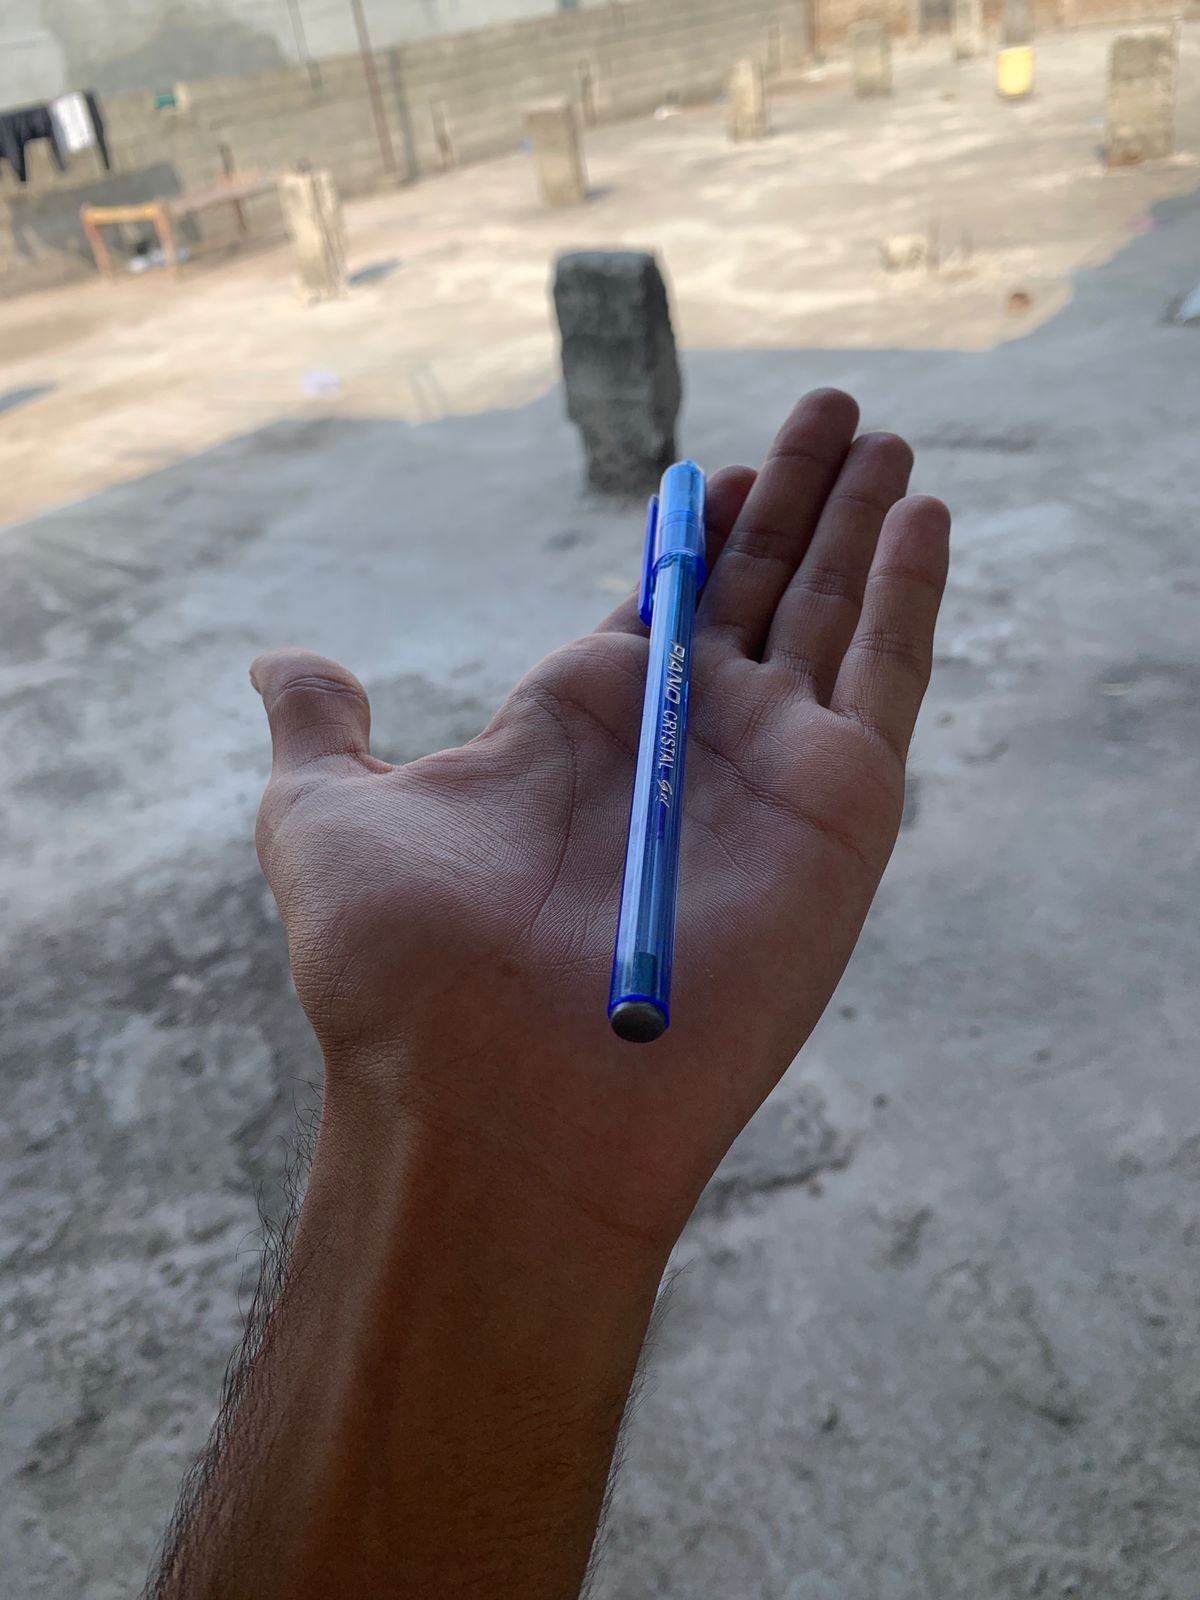pen: (528, 392, 767, 1123)
